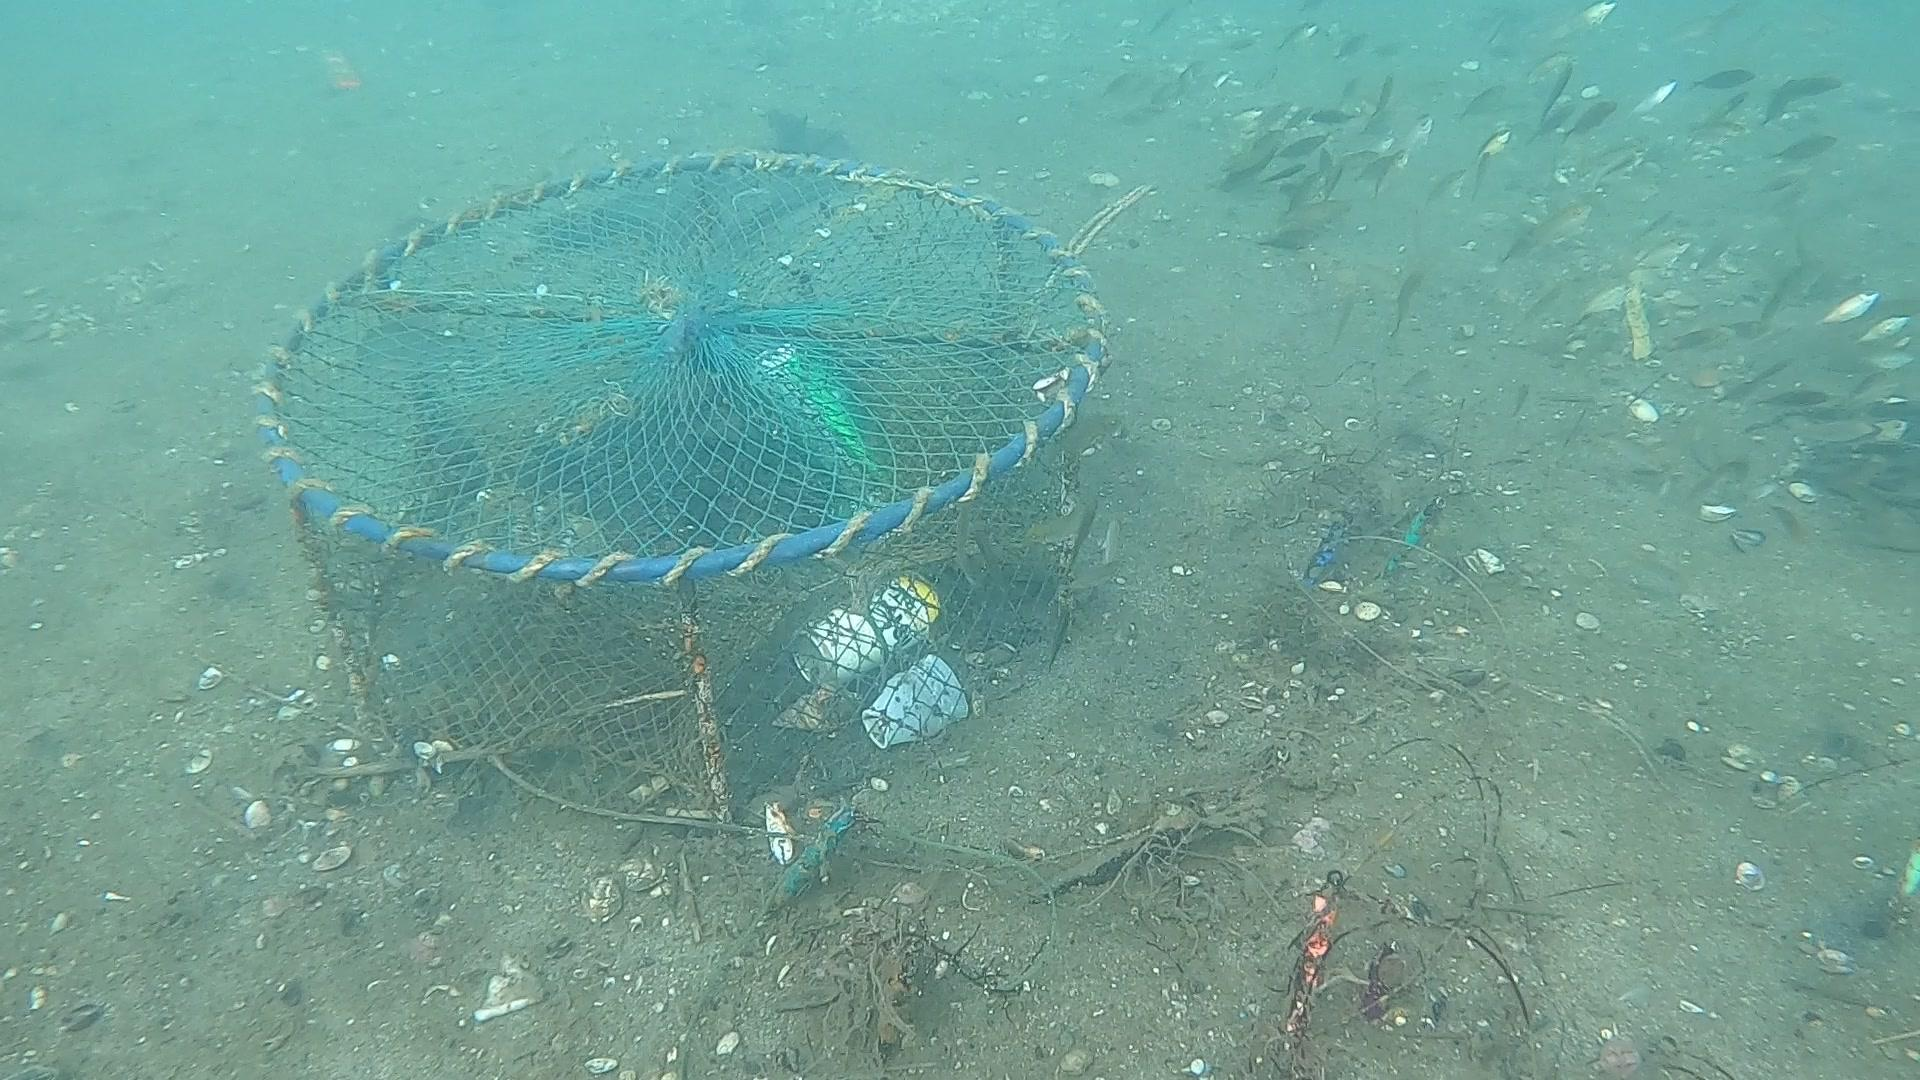bundle of ropes: (1064, 170, 1163, 265)
circular fish trap: (251, 145, 1118, 837)
